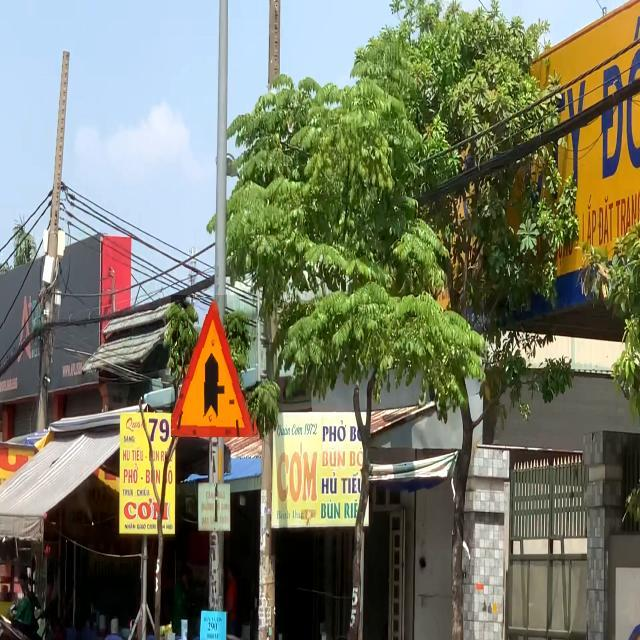W-207b: (171, 295, 258, 437)
